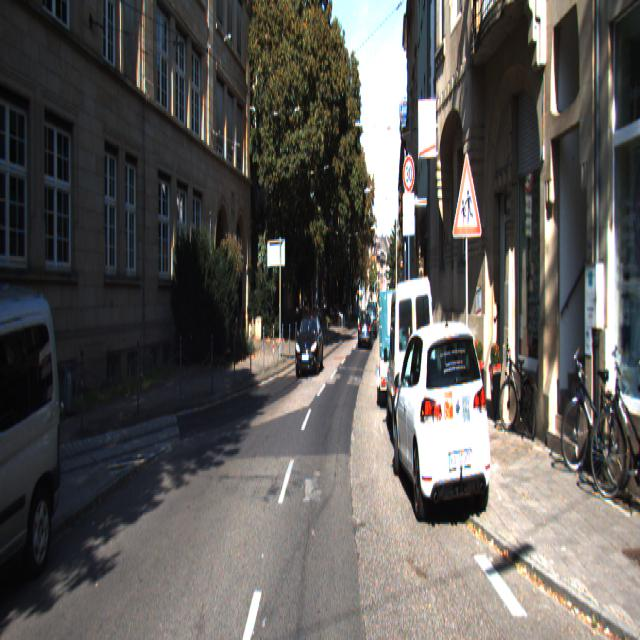Car: (0, 261, 70, 618), (390, 305, 494, 531), (384, 270, 437, 459), (294, 310, 324, 379), (358, 307, 372, 350)
